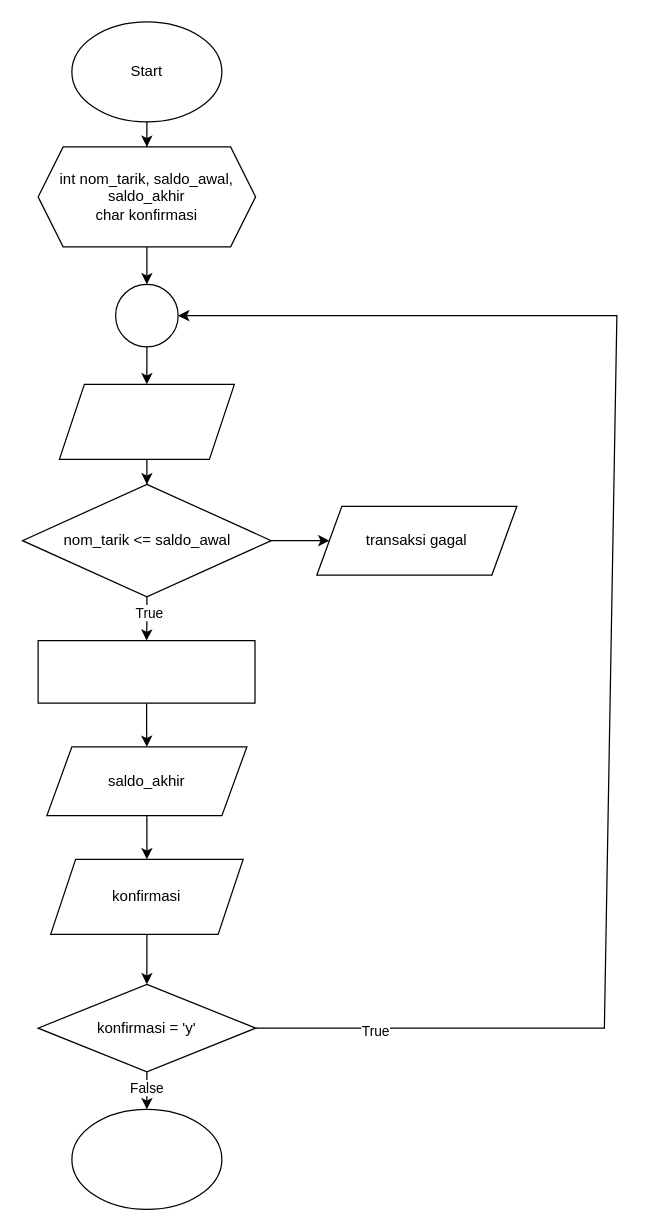
Some shapes in this 649 by 1231 pixel diagram are drawn without their labels. Each missing label, with the centre of its shape:
"End" goes at (146,1158).
"nom_tarik" goes at (146,421).
"saldo_akhr = saldo_awal - nom_tarik" goes at (146,671).
